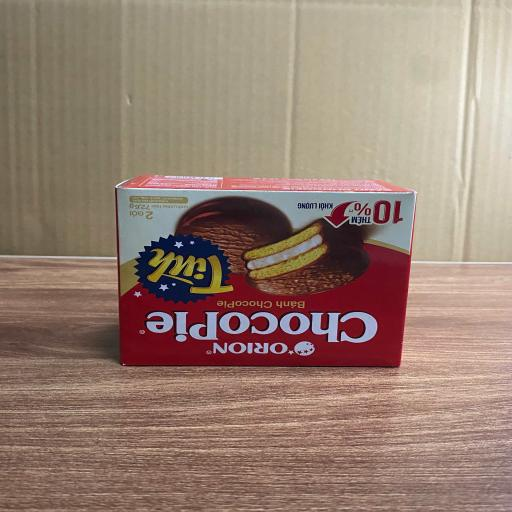chocopie: (115, 174, 416, 368)
